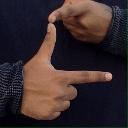hand: (19, 21, 112, 120), (47, 0, 112, 43)
